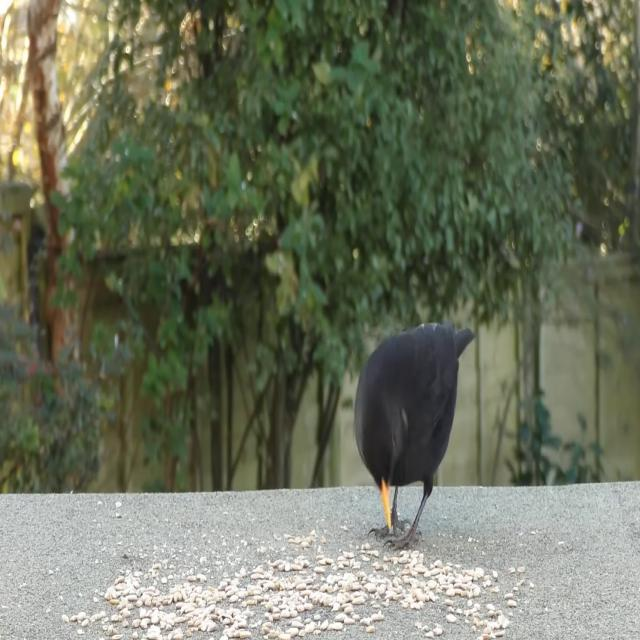beak: (374, 473, 398, 532)
bird: (352, 299, 475, 547)
